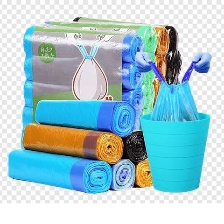plastic_bag: (5, 143, 110, 196), (15, 77, 145, 117), (21, 51, 144, 93), (19, 118, 126, 165), (20, 25, 141, 65), (38, 18, 160, 56), (71, 15, 173, 60), (32, 94, 134, 134), (147, 79, 203, 125), (103, 153, 137, 193), (122, 127, 153, 164), (133, 50, 161, 83), (134, 156, 158, 191), (160, 48, 185, 81), (159, 19, 182, 54), (134, 79, 154, 112)
